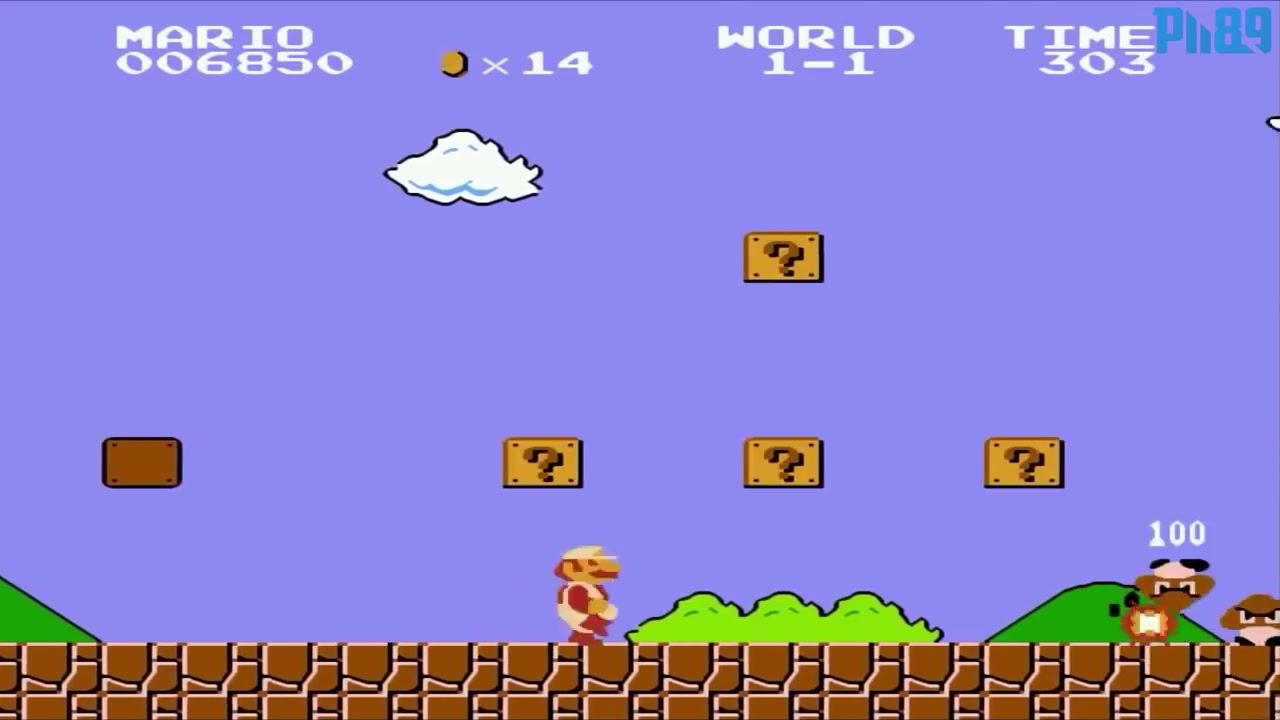mario: (542, 539, 635, 641)
